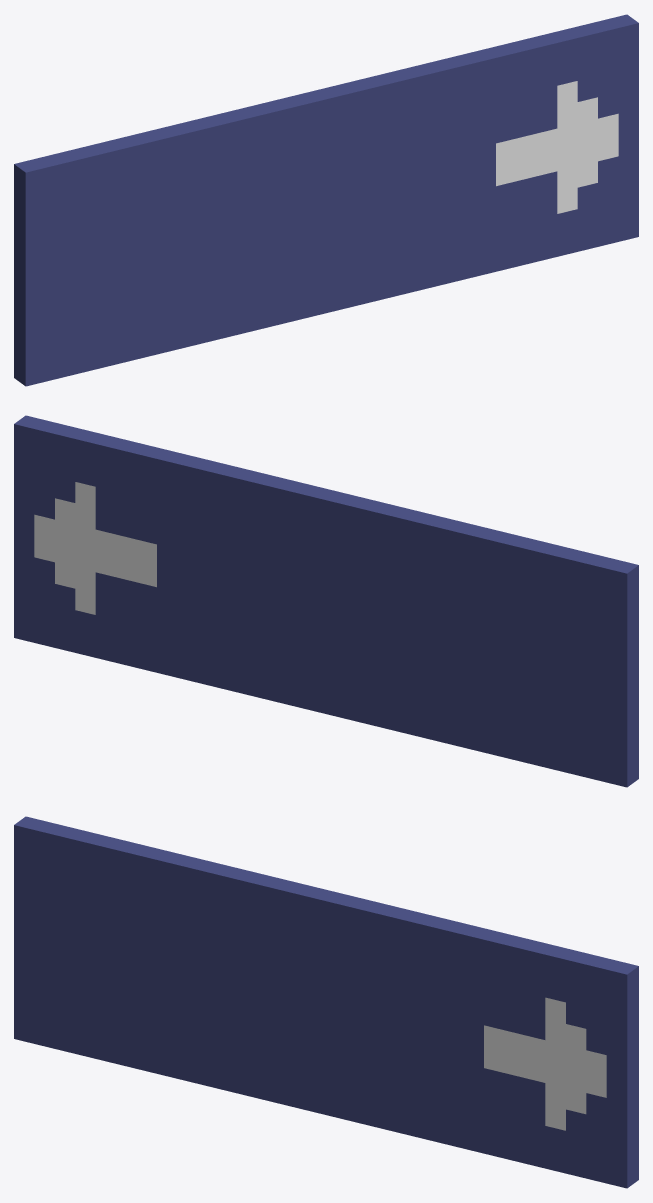
File: airport_signs_01.obj
3 views of the same model, one above another, from view 1: azimuth 30°, elevation 25°; view 2: azimuth 150°, elevation 25°; view 3: azimuth 330°, elevation 25° (orthographic).
Size of the model in its own units: 3 by 1 by 0.1.
Materials: 1 (1 with a texture image).
